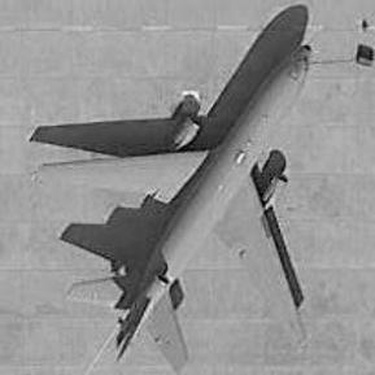airplane: (23, 12, 337, 371)
